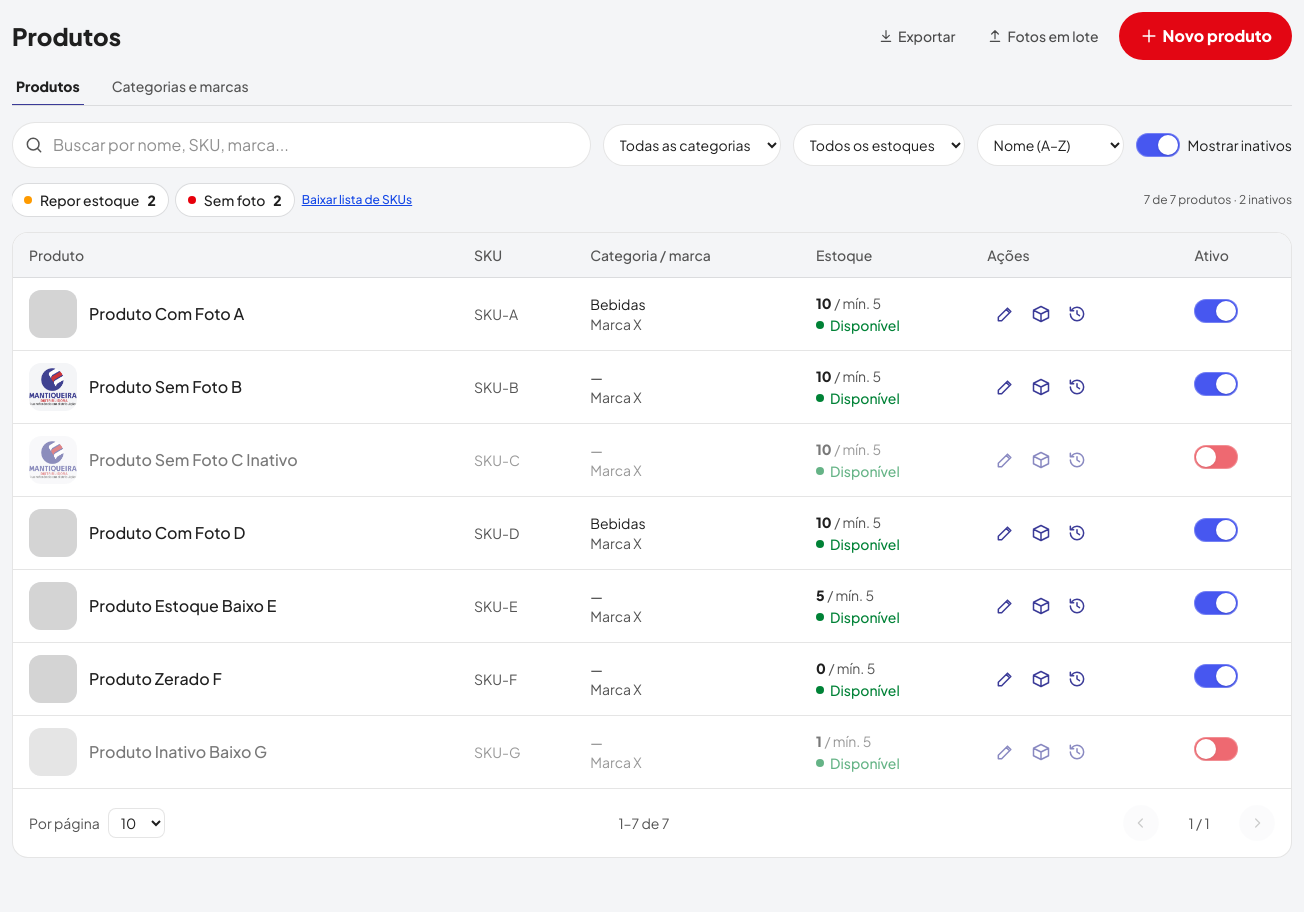
Produtos: cabeçalho, abas e barra de ferramentas › o seletor Estoque substitui os chips e filtra como antes (Disponível, Últimas unidades, Indisponível)
Check: the button "Indisponível" is not shown
Select "Disponível" in the dropdown named "Estoque" at {"x": 879, "y": 145}, box [793,124,965,166]
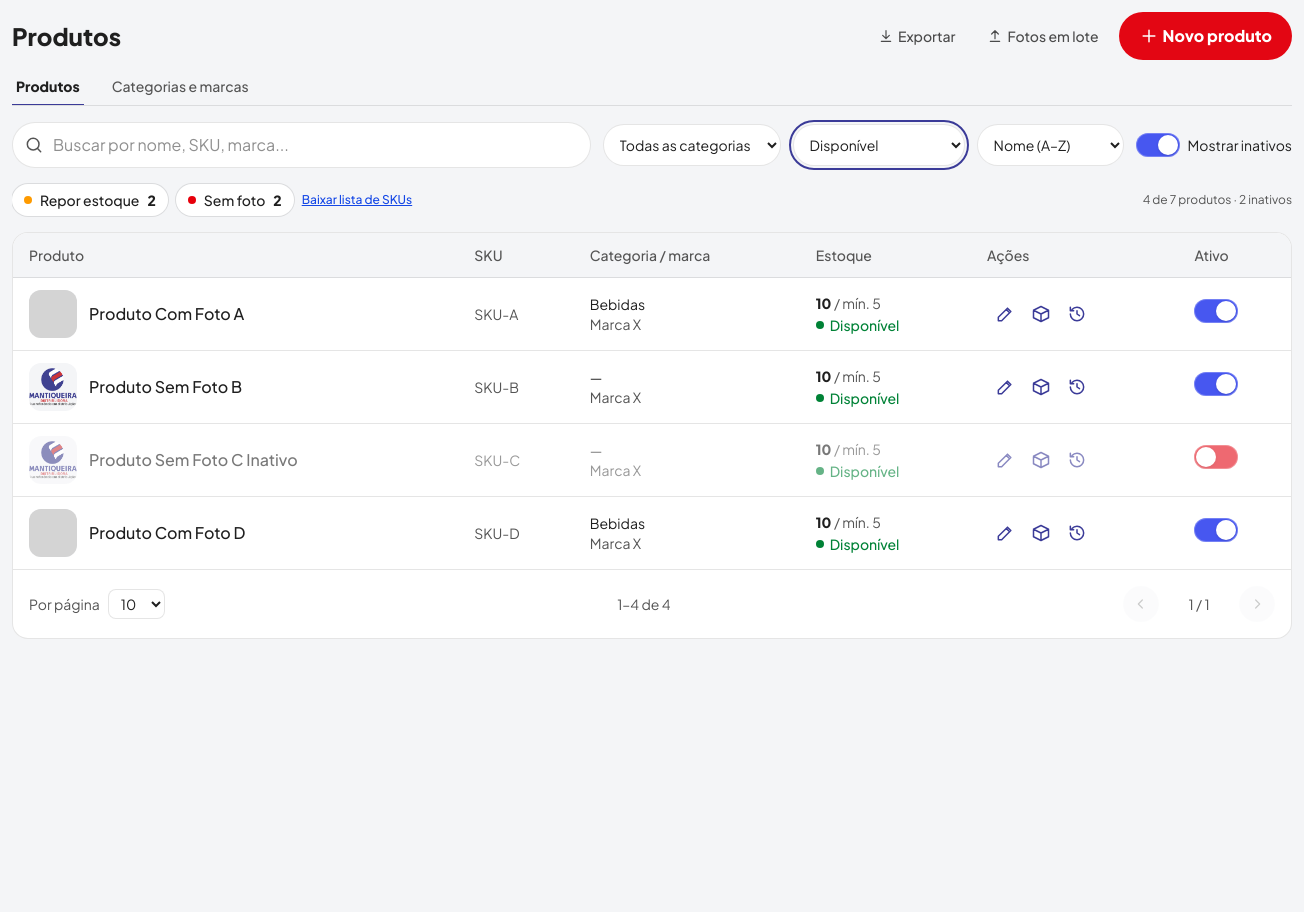
Check: the message shows "4 de 7 produtos", box [1143,192,1292,208]
Select "Indisponível" in the dropdown named "Estoque" at {"x": 879, "y": 145}, box [793,124,965,166]
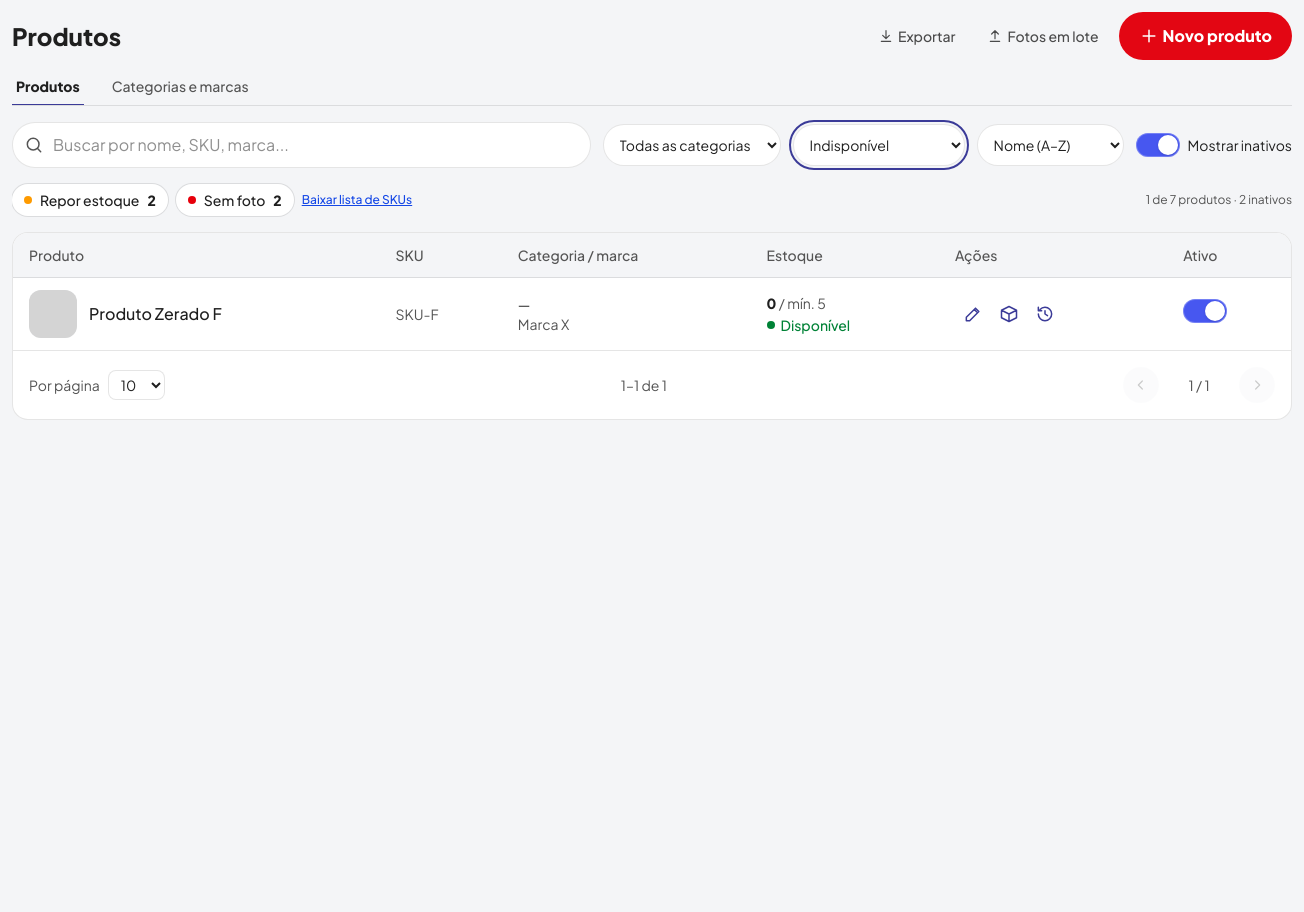
Check: the message shows "1 de 7 produtos", box [1146,192,1292,208]
Check: the text "Produto Zerado F" is shown, box [89,302,222,326]
Select "Últimas unidades" in the dropdown named "Estoque" at {"x": 879, "y": 145}, box [793,124,965,166]
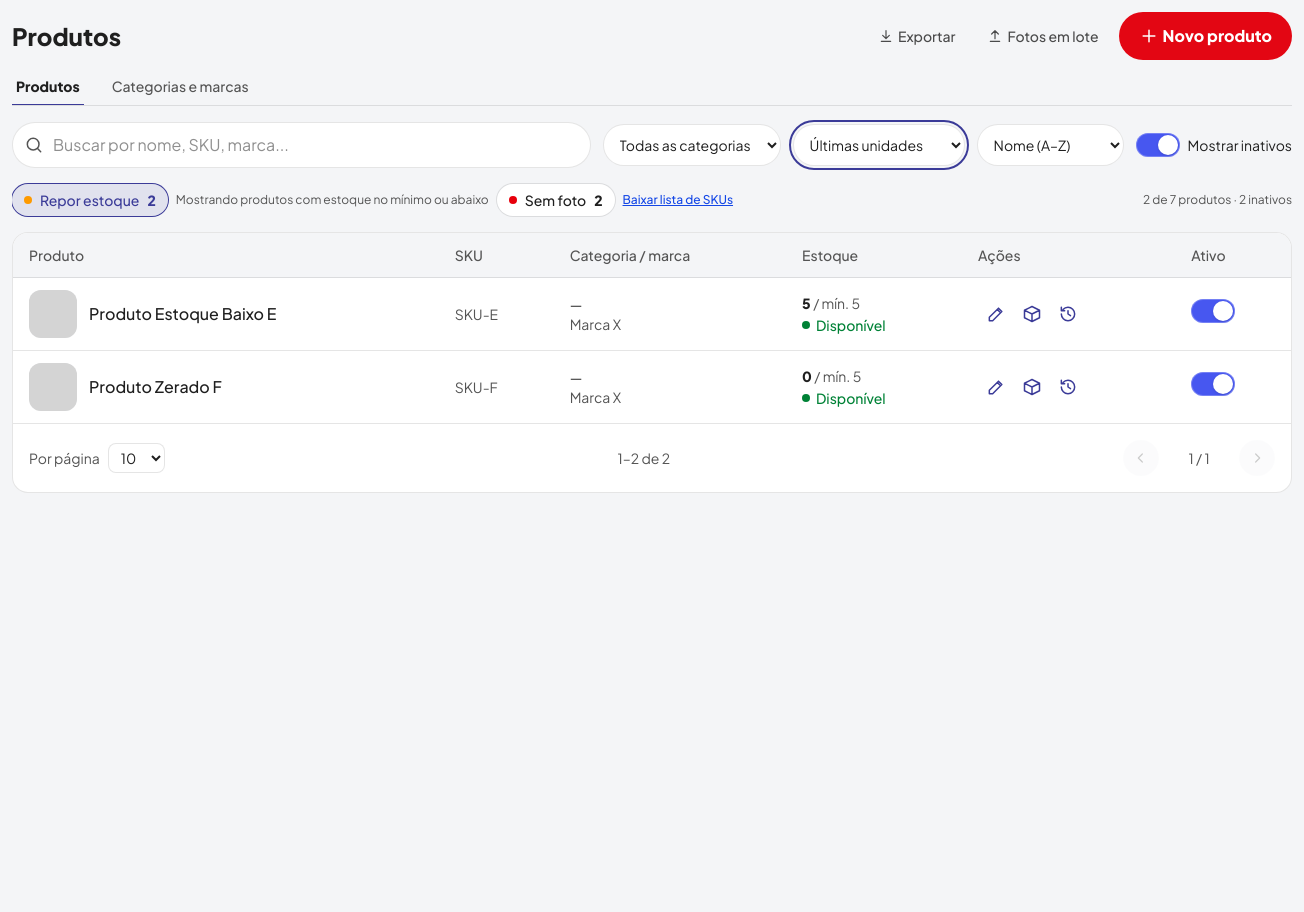
Check: the message shows "2 de 7 produtos", box [1143,192,1292,208]
Select "Todos os estoques" in the dropdown named "Estoque" at {"x": 879, "y": 145}, box [793,124,965,166]
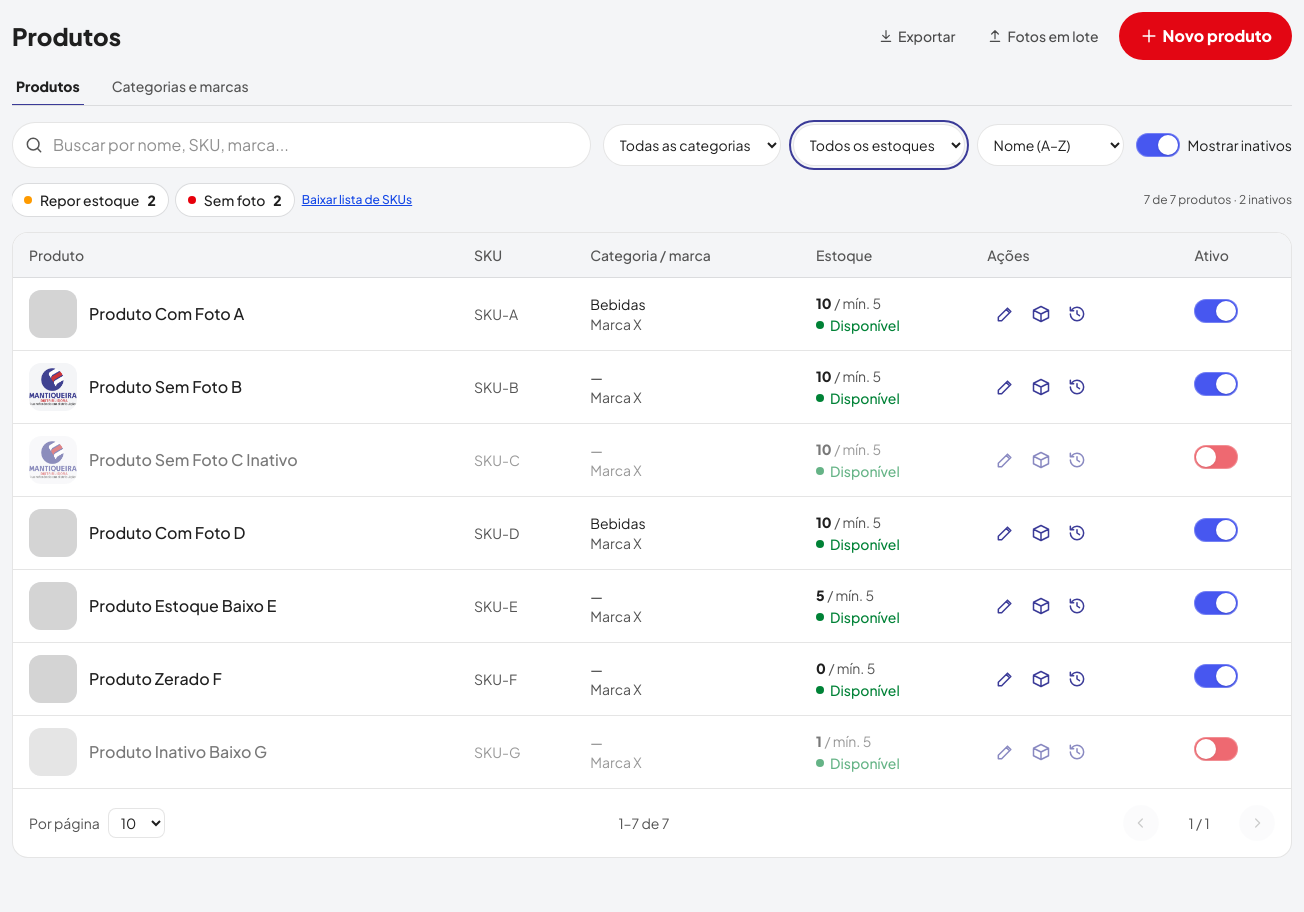
Check: the message shows "7 de 7 produtos", box [1144,192,1292,208]
